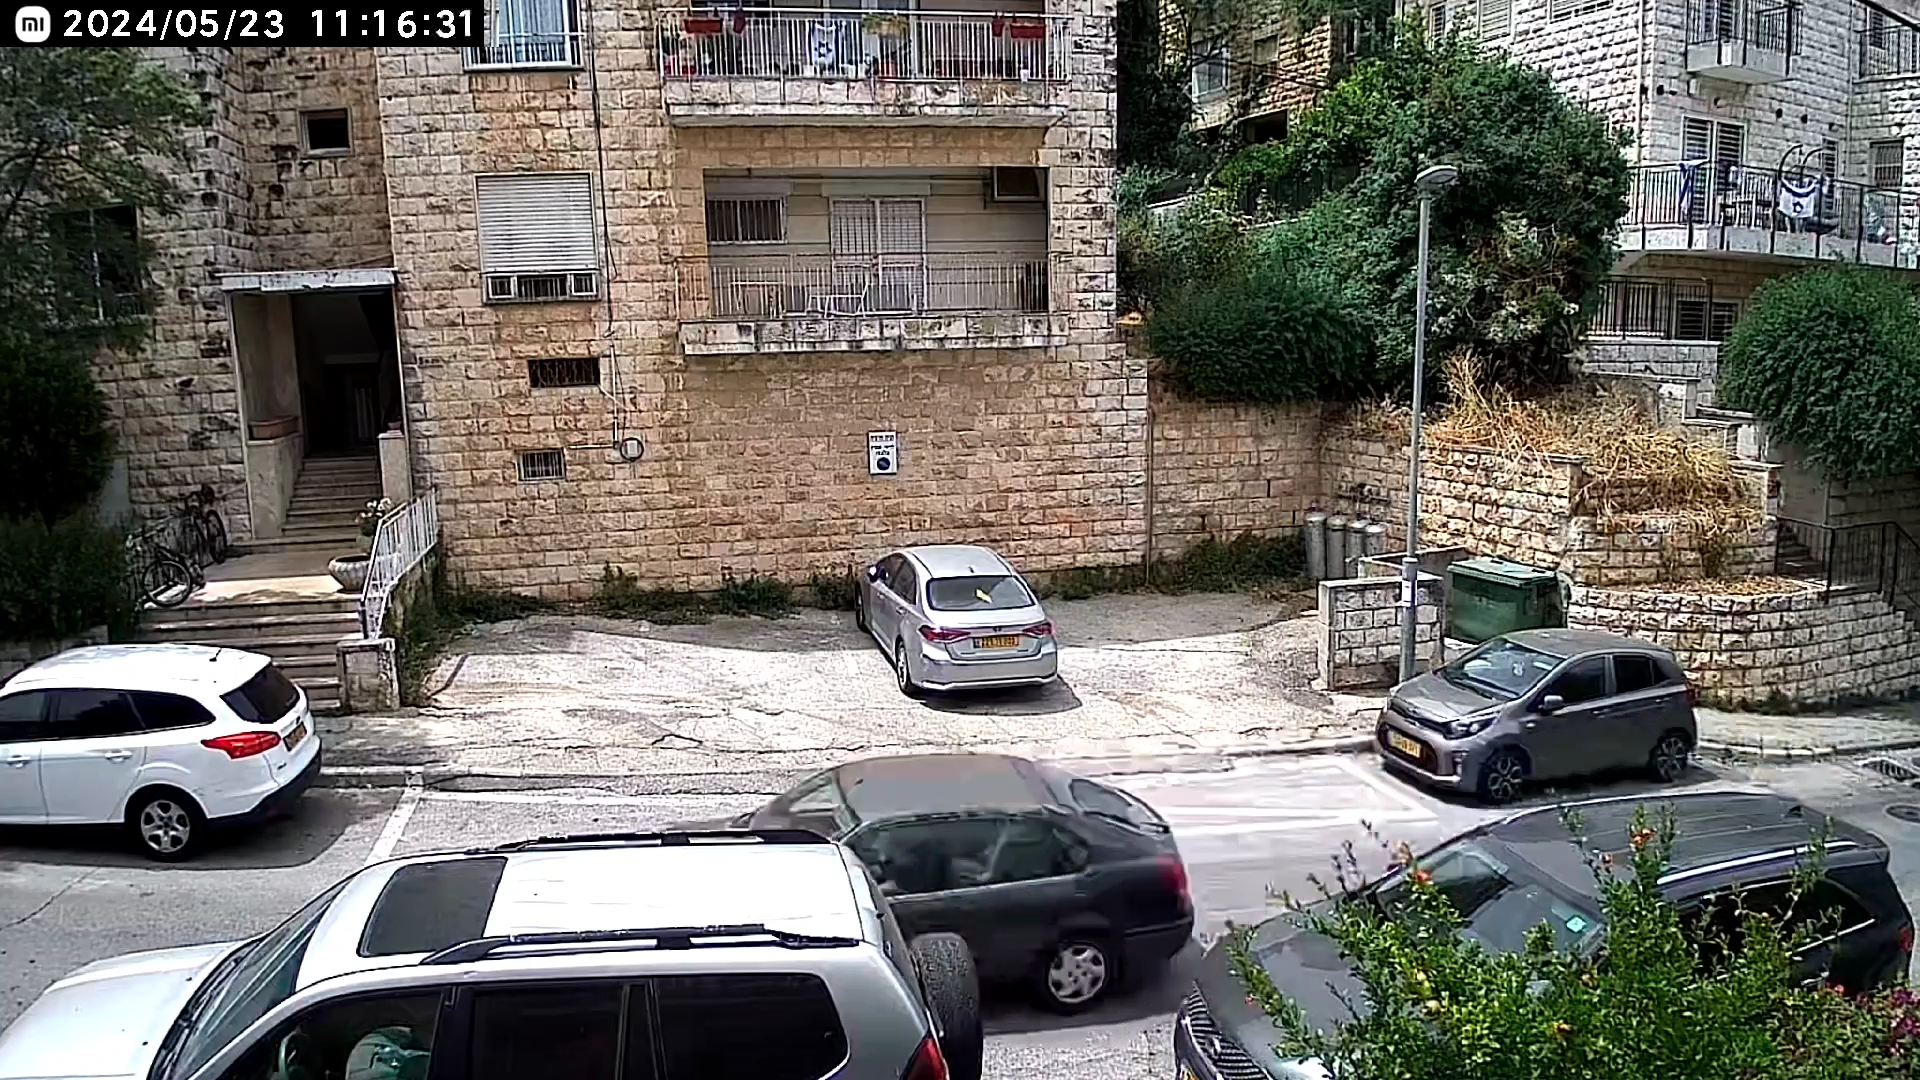moving_car: (278, 439, 636, 607)
